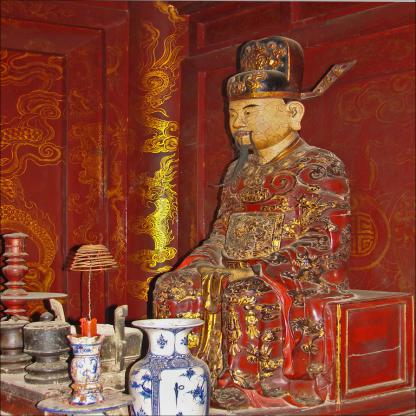vase: (125, 316, 210, 416)
